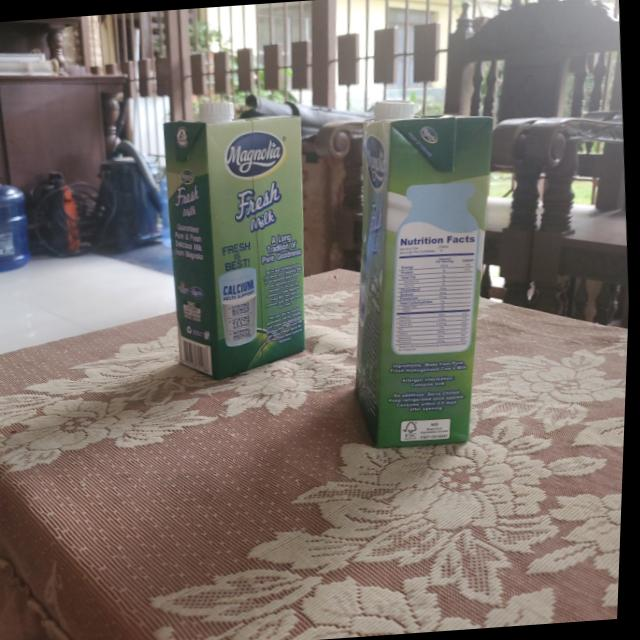milk: (339, 95, 515, 451), (158, 98, 323, 386)
